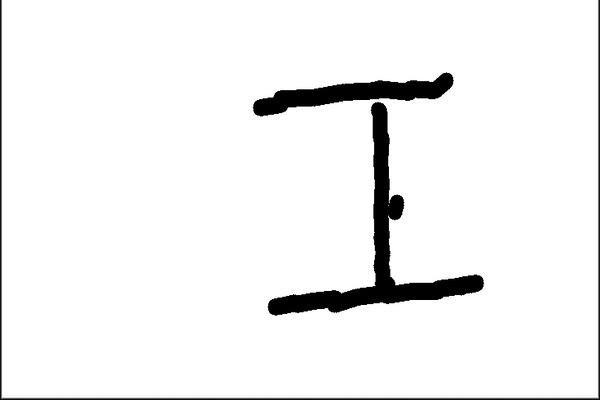i: (242, 64, 485, 314)
